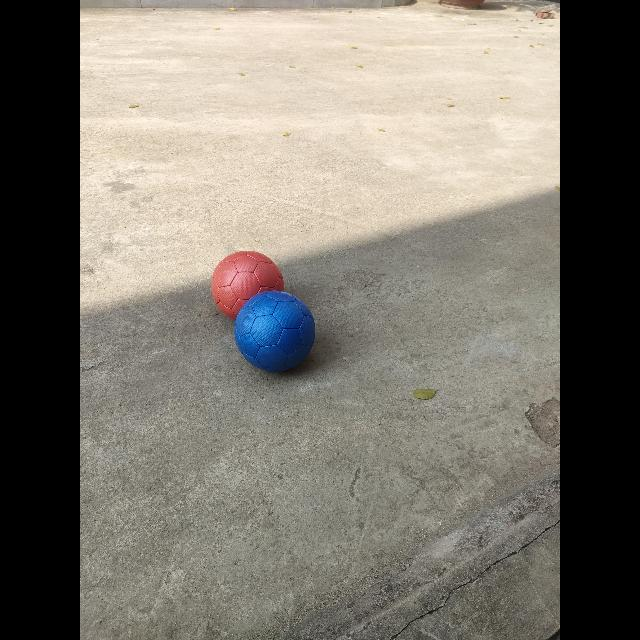B: (234, 291, 315, 372)
R: (211, 251, 284, 319)
